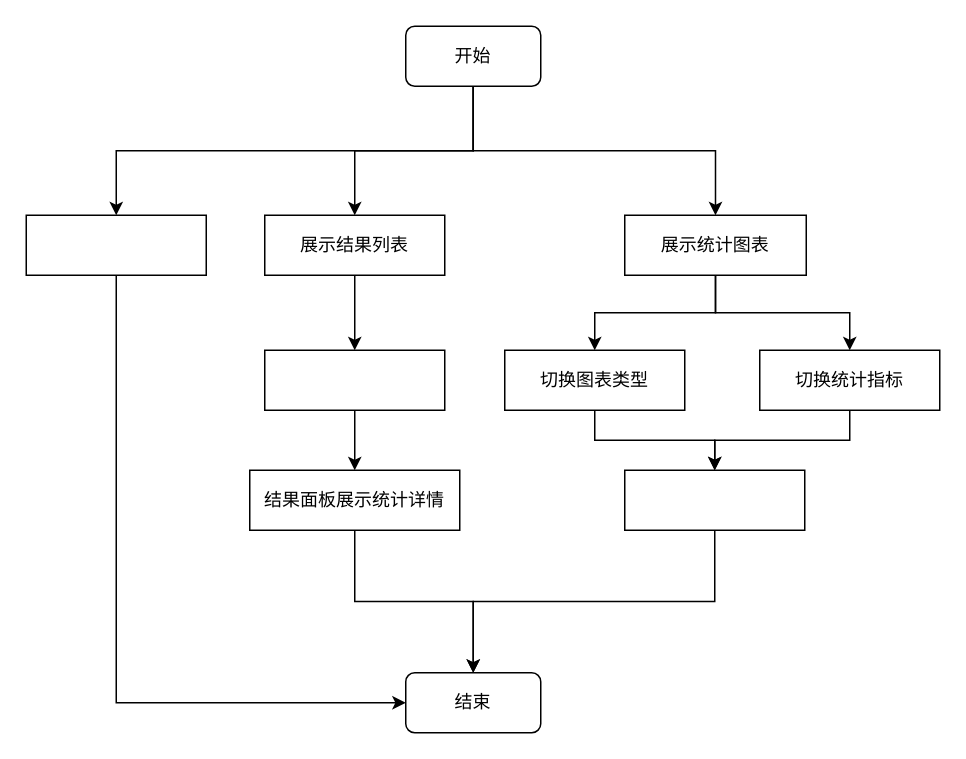
This 966x759 diagram has some shape labels left out. Here are the shapes that lost their labels. From the top down, the centre of each, then its label:
At pixel 115 244: "导出结果列表".
At pixel 354 379: "点击列表超链接".
At pixel 714 499: "展示对应统计图表".
